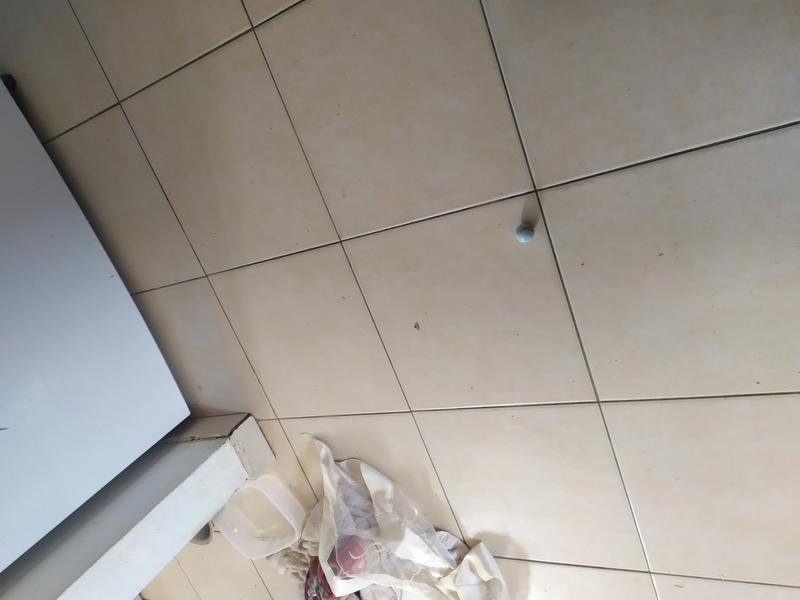Warning: (512, 221, 537, 245)
